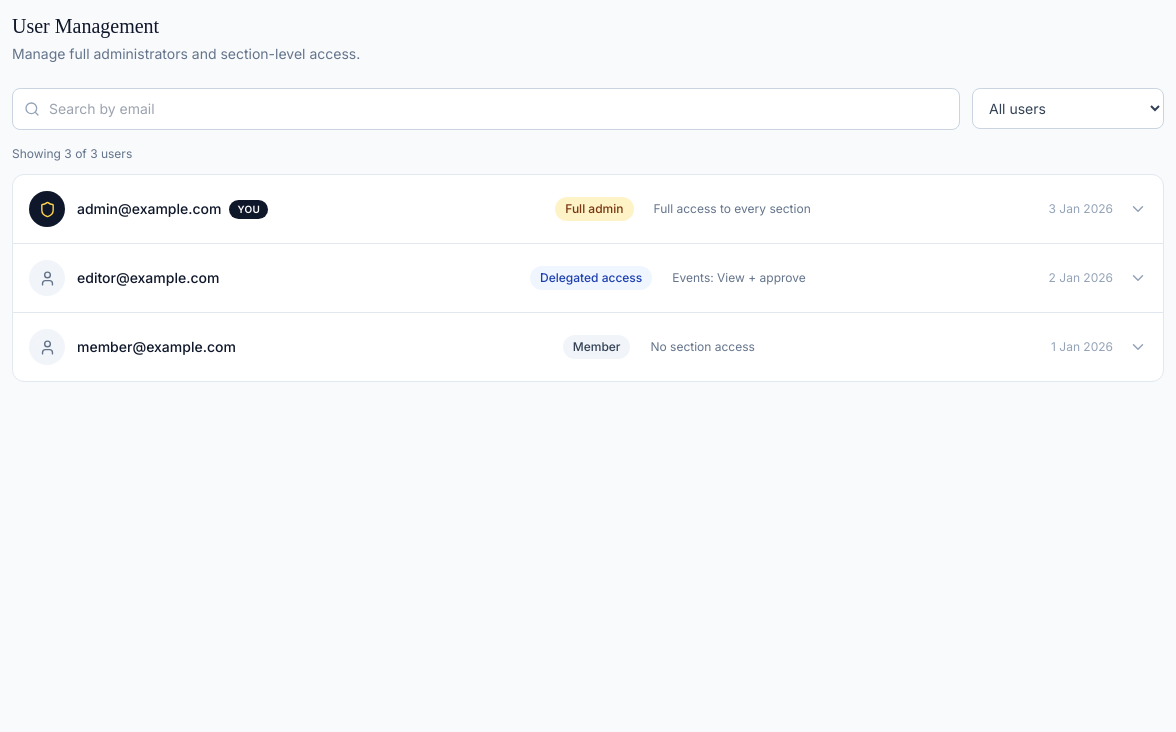
it: AdminUsersPage › protects the current administrator from changing their own full access
Click the button with aria-label "Manage access for admin@example.com" at (588, 209), box top-left (13, 175), bottom-right (1163, 243)
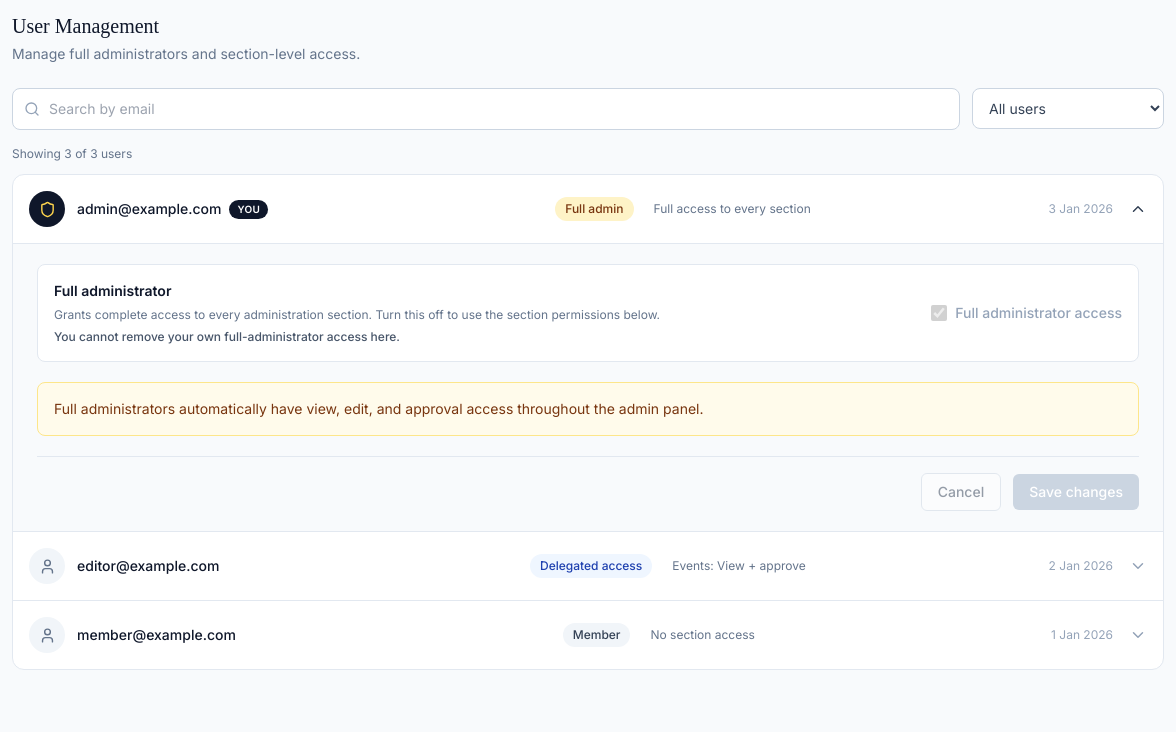
Check: the checkbox labelled "Full administrator access" is disabled, box top-left (931, 305), bottom-right (947, 321)
Check: the text "You cannot remove your own full-administrator access here." is shown, box top-left (54, 329), bottom-right (400, 344)
